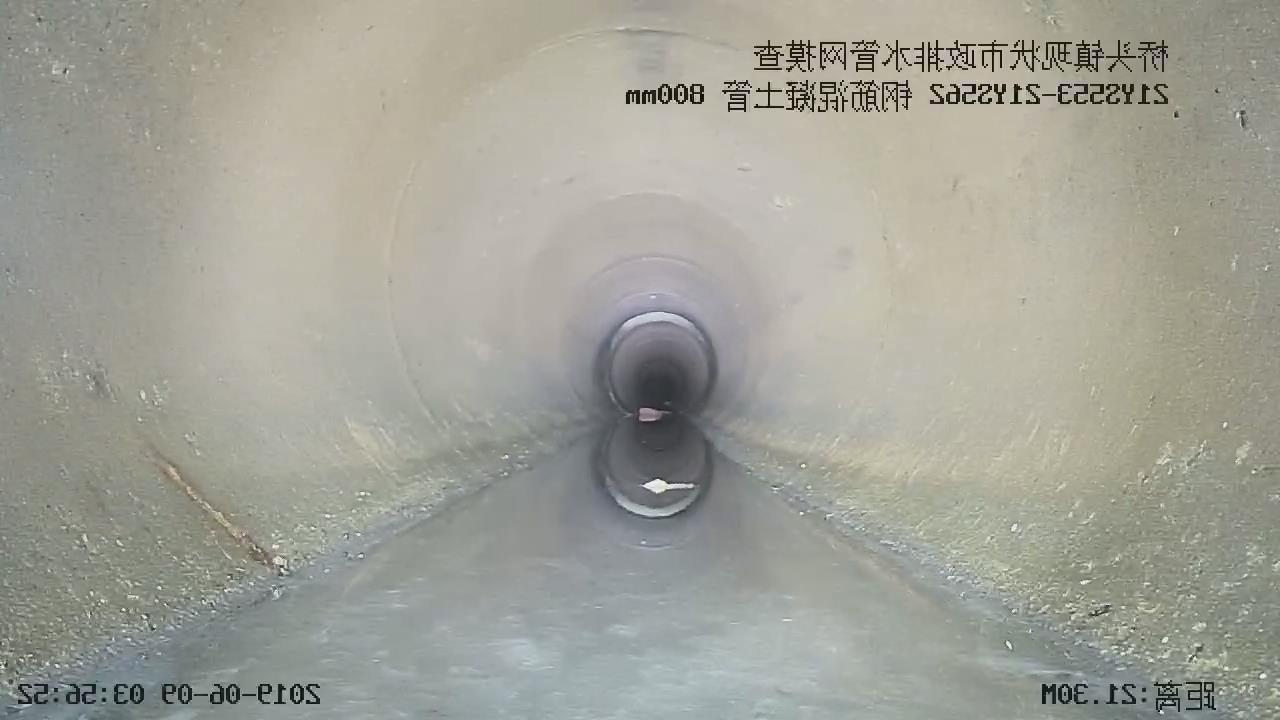CKTJ: (611, 311, 708, 357)
